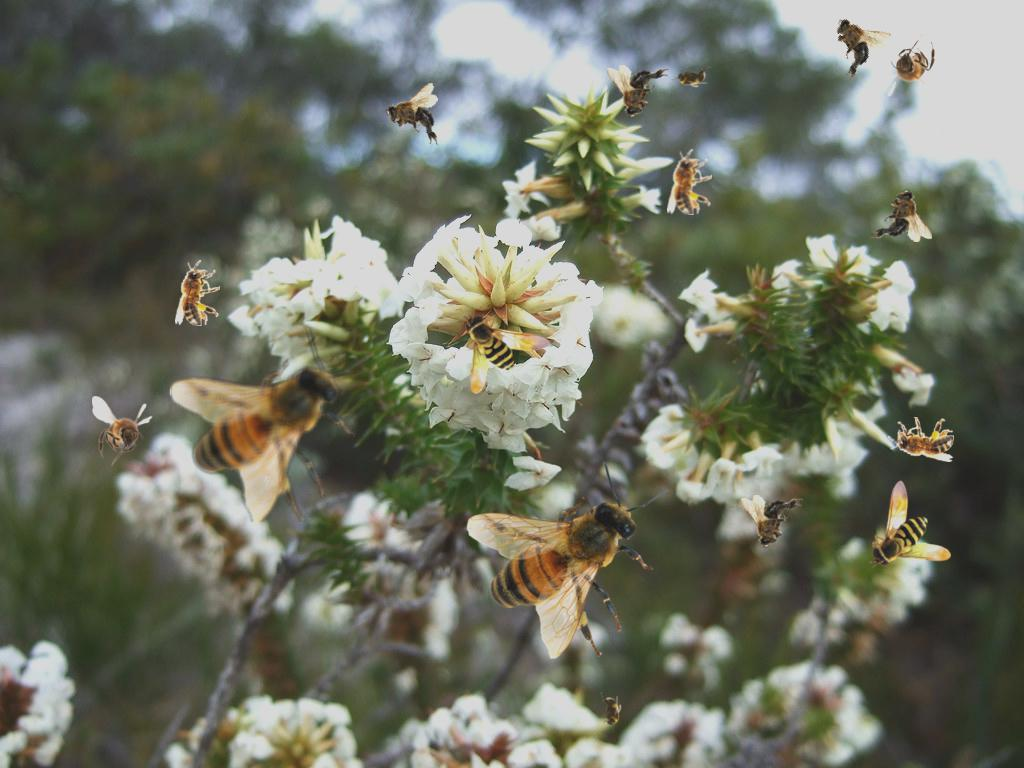Bee: (169, 325, 373, 524), (466, 460, 670, 659), (463, 312, 551, 394), (869, 480, 951, 568), (813, 2, 896, 84), (92, 396, 153, 466), (881, 34, 942, 104), (383, 82, 442, 150), (741, 495, 803, 548), (870, 189, 932, 242), (607, 65, 669, 118), (175, 260, 220, 326), (888, 417, 954, 462), (667, 149, 712, 215), (671, 66, 711, 88), (600, 692, 622, 732)
